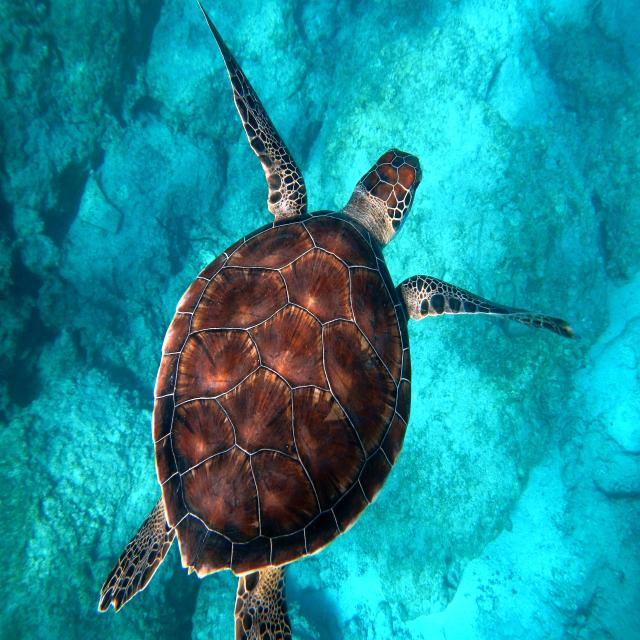Sea turtle: (109, 0, 589, 640)
